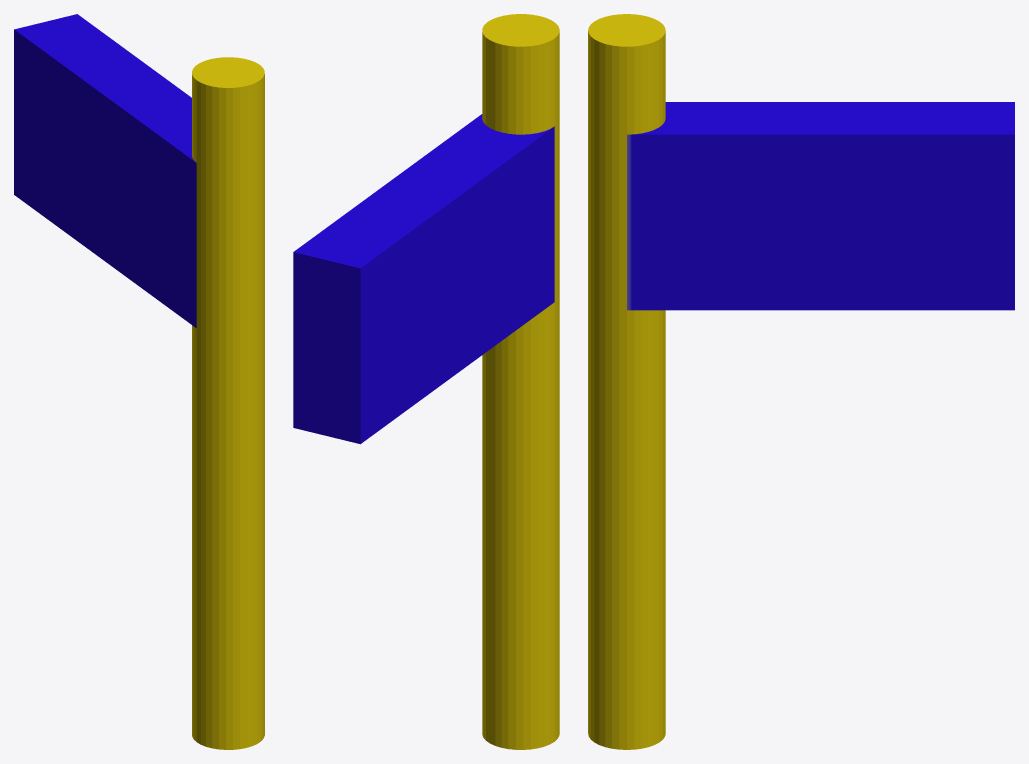
Rendered from Goal.glb.
3 views of the same model, side by side, from view 1: azimuth 30°, elevation 25°; view 2: azimuth 150°, elevation 25°; view 3: azimuth 270°, elevation 25° (orthographic). The views are drawn at different scales.
Visible parts, largest first — view 1: Cube; view 2: Cube; view 3: Cube.
Boxes of the visible parts, x1=… form: Cube: x1=14, y1=14, x2=264, y2=749; Cube: x1=293, y1=14, x2=559, y2=749; Cube: x1=588, y1=14, x2=1014, y2=749.
Size of the model in its own units: 0.2 by 2 by 1.1.
Materials: 1 (1 with a texture image).
